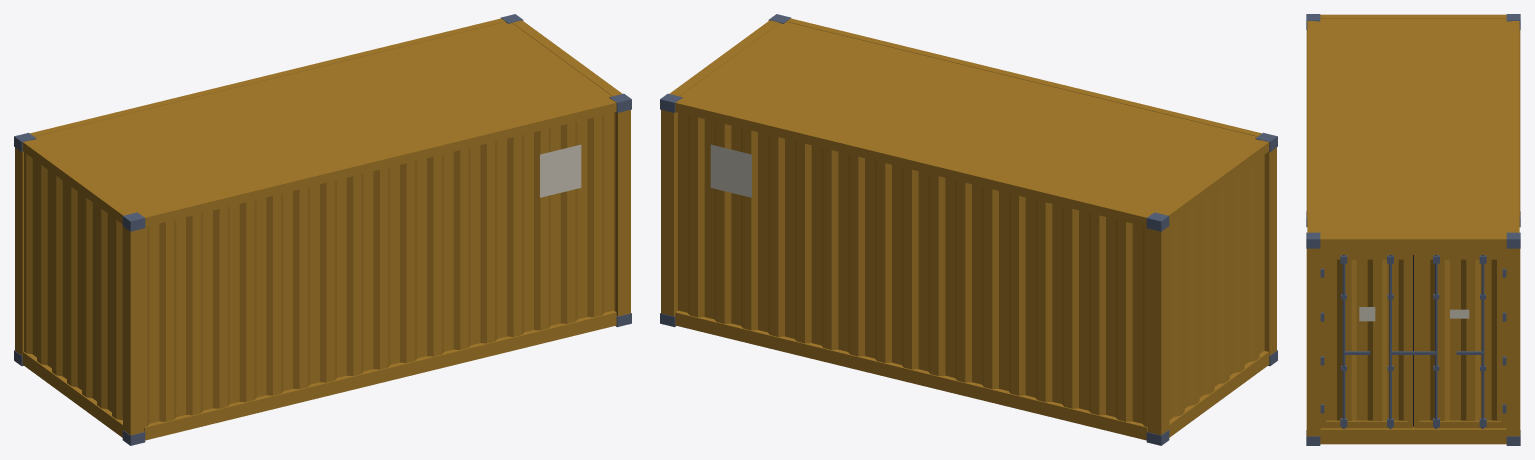
File: port_container_20_ochre.glb
3 views of the same model, side by side, from view 1: azimuth 30°, elevation 25°; view 2: azimuth 150°, elevation 25°; view 3: azimuth 270°, elevation 25° (orthographic). The views are drawn at different scales.
Parts seen in each view (by area): view 1: shell, stencil, hardware; view 2: shell, stencil, hardware; view 3: shell, hardware, warning.
Boxes of the visible parts, <box> form: shell: <box>15,18,630,440</box>; stencil: <box>540,144,581,197</box>; hardware: <box>14,14,631,445</box>; shell: <box>661,18,1276,440</box>; stencil: <box>710,144,751,197</box>; hardware: <box>660,14,1277,445</box>; shell: <box>1306,14,1520,444</box>; hardware: <box>1306,14,1520,445</box>; warning: <box>1359,307,1375,321</box>.
Size of the model in its own units: 6.06 by 2.59 by 2.44.
